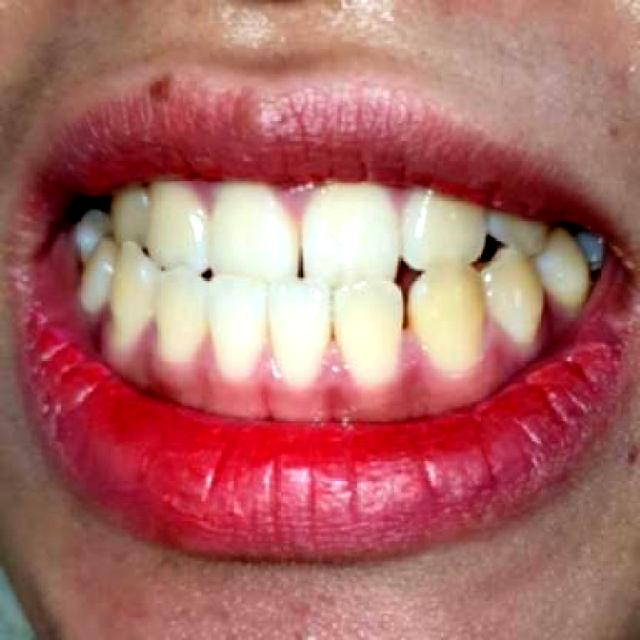Plaque: (392, 330, 436, 380), (312, 340, 356, 386), (480, 311, 514, 362), (271, 187, 316, 225), (186, 334, 221, 376), (247, 340, 280, 383), (185, 182, 222, 216), (132, 320, 164, 357), (87, 302, 108, 345), (385, 190, 411, 217)
